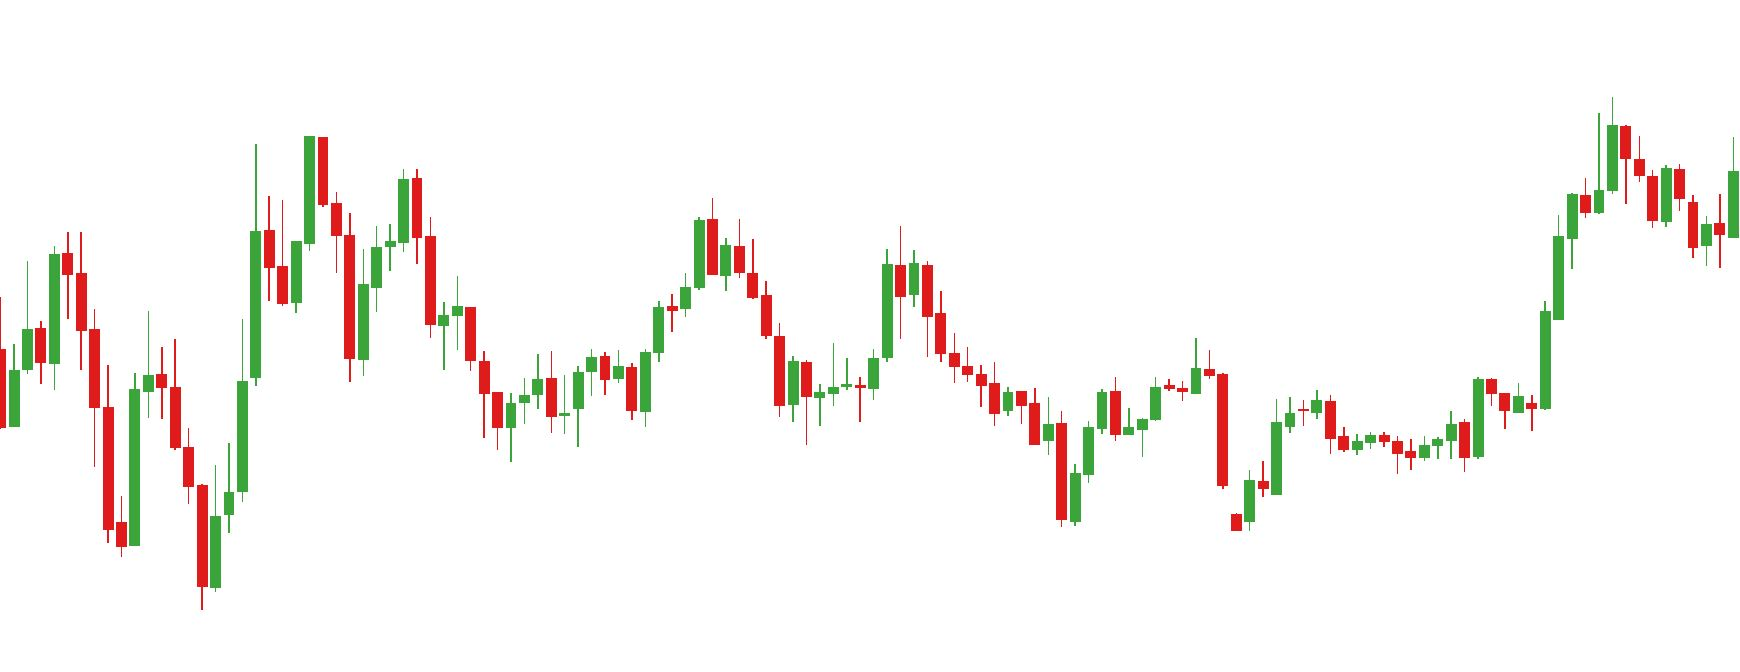buy: (624, 297, 815, 445), (117, 416, 225, 611)
sell: (58, 144, 273, 350)
